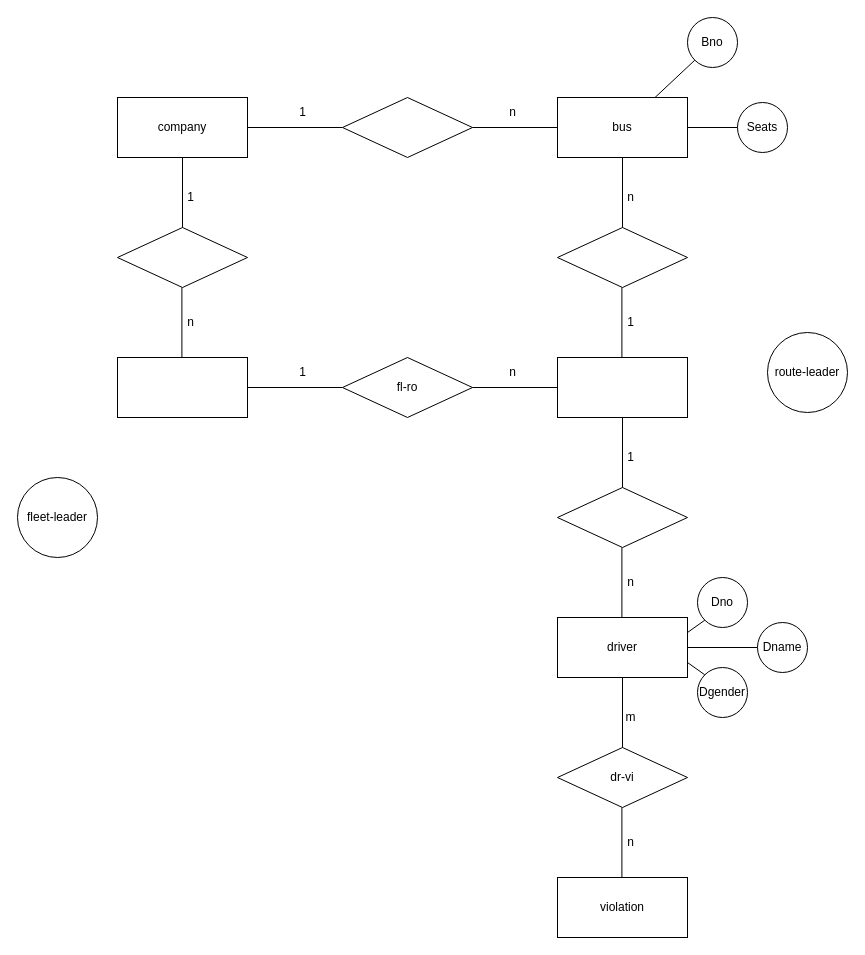
This 865x955 diagram has some shape labels left out. The shapes that lost their labels are listed below. From the top down, each one's centre as x and y in pixels, then its label:
the point at 407,127: co-bus
the point at 182,257: co-fl
the point at 622,257: belongs
the point at 182,387: fleet
the point at 622,387: route
the point at 622,517: ro-dr
